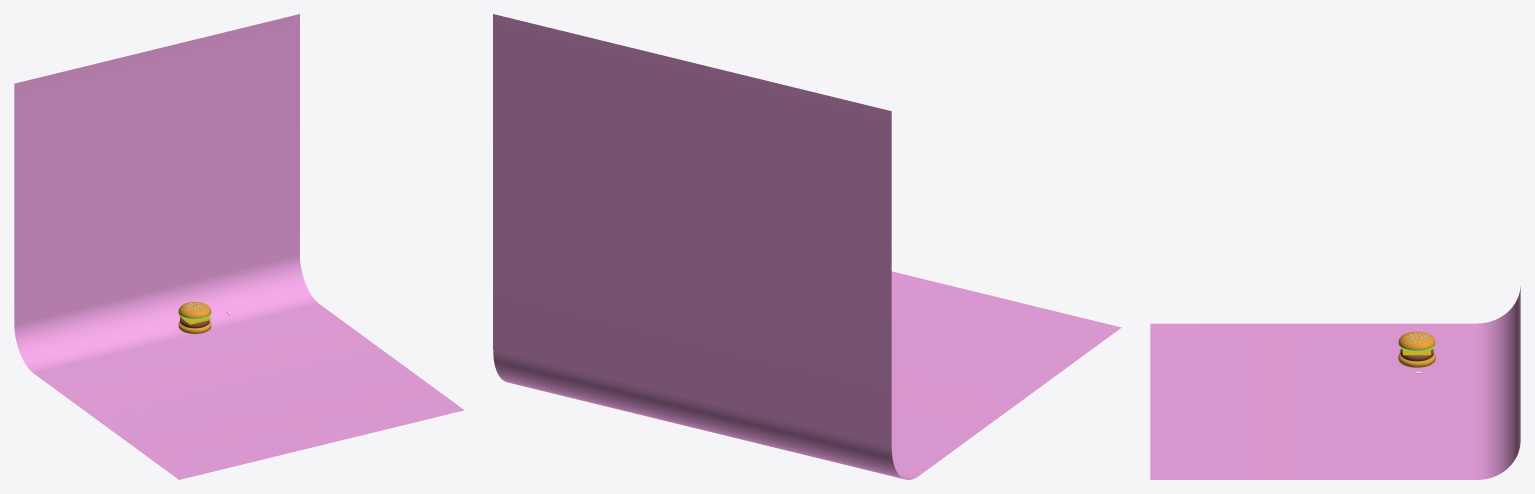
The model's file is ハンバーガー003.glb.
The picture shows the model from 3 angles, left to right: view 1: azimuth 30°, elevation 25°; view 2: azimuth 150°, elevation 25°; view 3: azimuth 270°, elevation 25°; orthographic projection. The views are drawn at different scales.
Parts seen in each view (by area): view 1: 平面.001; view 2: 平面.001; view 3: 平面.001, 球.001.
Part boxes in pixels (x1=…): 平面.001: x1=14, y1=14, x2=464, y2=479; 平面.001: x1=493, y1=14, x2=1121, y2=479; 平面.001: x1=1150, y1=286, x2=1520, y2=479; 球.001: x1=1398, y1=331, x2=1435, y2=350.
Bounding box in the file's own units: 20 × 18.45 × 20.
